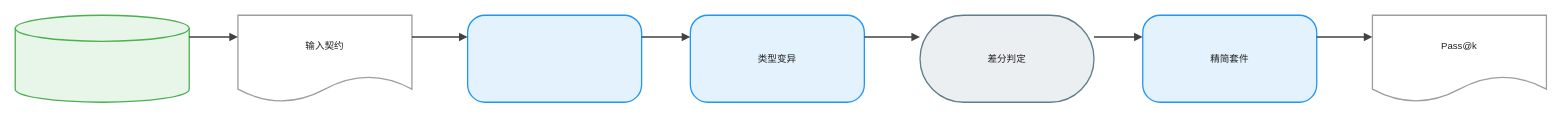
Some shapes in this 1563 by 118 pixel diagram are drawn without their labels. The centre of each missing label's shape, as x and y in pixels:
"LLM种子" belongs at pixel 554 58.
"原始基准" belongs at pixel 101 58.
